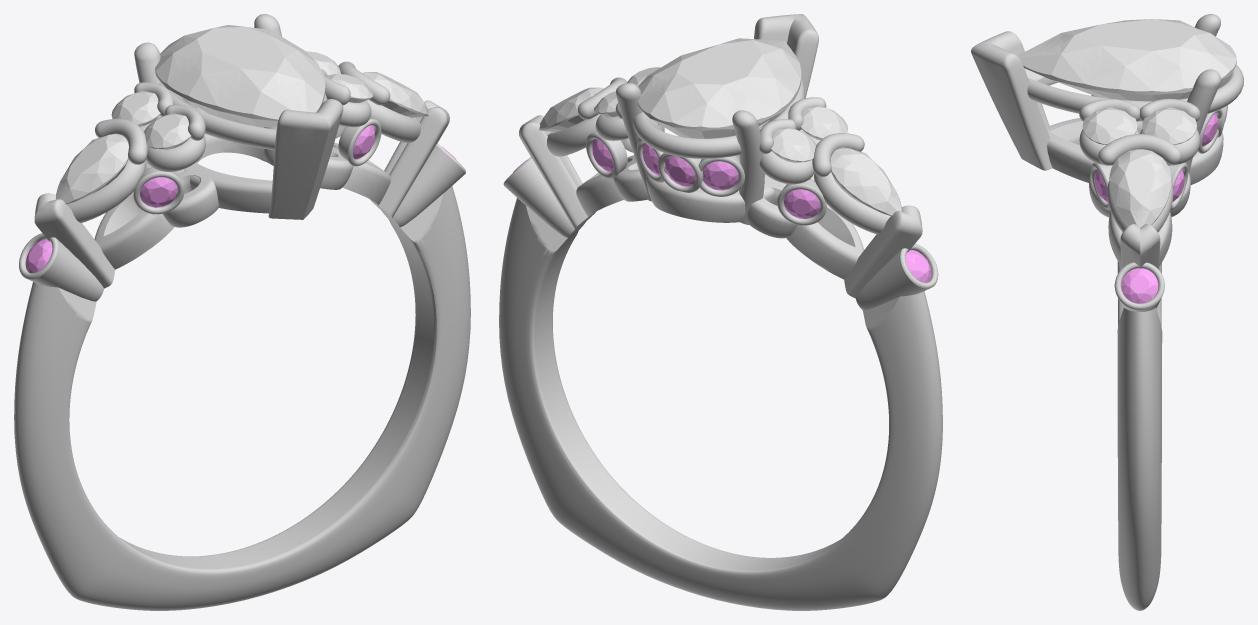
The model's file is ChrisVringv6.glb.
3 renders of one model, left to right at view 1: azimuth 30°, elevation 25°; view 2: azimuth 150°, elevation 25°; view 3: azimuth 270°, elevation 25°, orthographic. The views are drawn at different scales.
Parts seen in each view (by area): view 1: v6 PT for 3d model, Chris dia for 3d model.001, Chris dia for 3d model.002, Chris dia for 3d model.005, Chris dia for 3d model, Chris dia for 3d model.006, v6 aqua for 3d model.006, Chris dia for 3d model.003, v6 aqua for 3d model.001; view 2: v6 PT for 3d model, Chris dia for 3d model.001, Chris dia for 3d model.002, Chris dia for 3d model, Chris dia for 3d model.006, Chris dia for 3d model.005, v6 aqua for 3d model.008, v6 aqua for 3d model.003, v6 aqua for 3d model.004, v6 aqua for 3d model.001; view 3: v6 PT for 3d model, Chris dia for 3d model.001, Chris dia for 3d model, Chris dia for 3d model.003, Chris dia for 3d model.004, v6 aqua for 3d model.
Part boxes in pixels (x1=…): v6 PT for 3d model: x1=14, y1=14, x2=470, y2=610; Chris dia for 3d model.001: x1=155, y1=25, x2=325, y2=127; Chris dia for 3d model.002: x1=56, y1=133, x2=128, y2=204; Chris dia for 3d model.005: x1=144, y1=113, x2=191, y2=149; Chris dia for 3d model: x1=362, y1=72, x2=428, y2=117; Chris dia for 3d model.006: x1=111, y1=91, x2=160, y2=126; v6 aqua for 3d model.006: x1=140, y1=177, x2=177, y2=207; Chris dia for 3d model.003: x1=326, y1=73, x2=373, y2=102; v6 aqua for 3d model.001: x1=25, y1=239, x2=52, y2=273; v6 PT for 3d model: x1=499, y1=14, x2=942, y2=610; Chris dia for 3d model.001: x1=637, y1=38, x2=801, y2=138; Chris dia for 3d model.002: x1=831, y1=147, x2=901, y2=216; Chris dia for 3d model: x1=539, y1=87, x2=603, y2=132; Chris dia for 3d model.006: x1=770, y1=127, x2=816, y2=162; Chris dia for 3d model.005: x1=800, y1=105, x2=847, y2=139; v6 aqua for 3d model.008: x1=784, y1=189, x2=820, y2=218; v6 aqua for 3d model.003: x1=702, y1=161, x2=738, y2=190; v6 aqua for 3d model.004: x1=665, y1=156, x2=695, y2=186; v6 aqua for 3d model.001: x1=905, y1=250, x2=931, y2=282; v6 PT for 3d model: x1=971, y1=14, x2=1243, y2=610; Chris dia for 3d model.001: x1=1018, y1=19, x2=1236, y2=101; Chris dia for 3d model: x1=1109, y1=149, x2=1171, y2=227; Chris dia for 3d model.003: x1=1082, y1=107, x2=1137, y2=144; Chris dia for 3d model.004: x1=1142, y1=107, x2=1196, y2=144; v6 aqua for 3d model: x1=1121, y1=268, x2=1158, y2=303.
Bounding box in the file's own units: 20.5 × 23.8 × 10.98.
